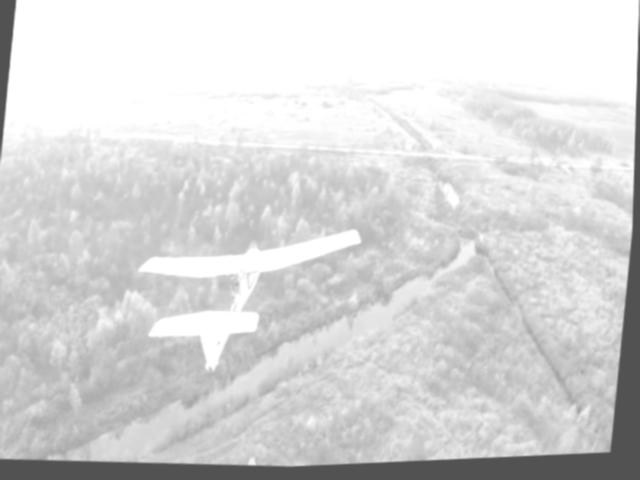hedef: (98, 175, 367, 389)
